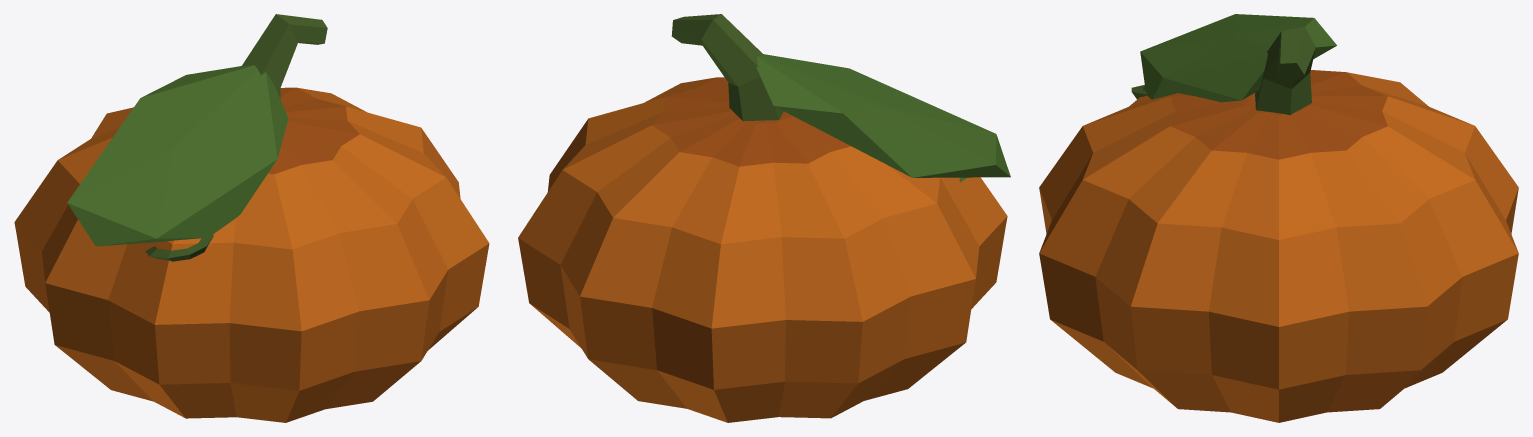
Rendered from pumpkin.glb.
3 views of the same model, side by side, from view 1: azimuth 30°, elevation 25°; view 2: azimuth 150°, elevation 25°; view 3: azimuth 270°, elevation 25° (orthographic). The views are drawn at different scales.
Visible parts, largest first — view 1: pumpkin; view 2: pumpkin; view 3: pumpkin.
Part boxes in pixels (x1,y1,x2,y2): pumpkin: (14, 14, 489, 422); pumpkin: (518, 14, 1010, 422); pumpkin: (1039, 14, 1518, 422).
Bounding box in the file's own units: 0.88 × 0.7188 × 0.8369.
